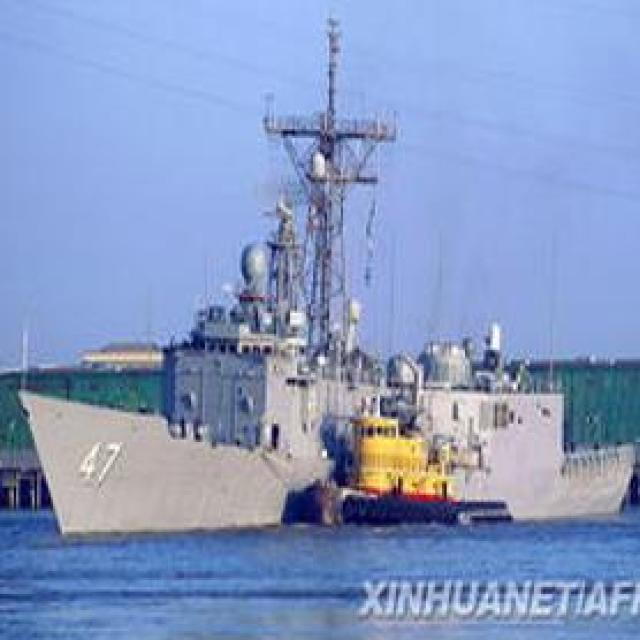navalvessels: (21, 101, 628, 531), (296, 402, 511, 528)
